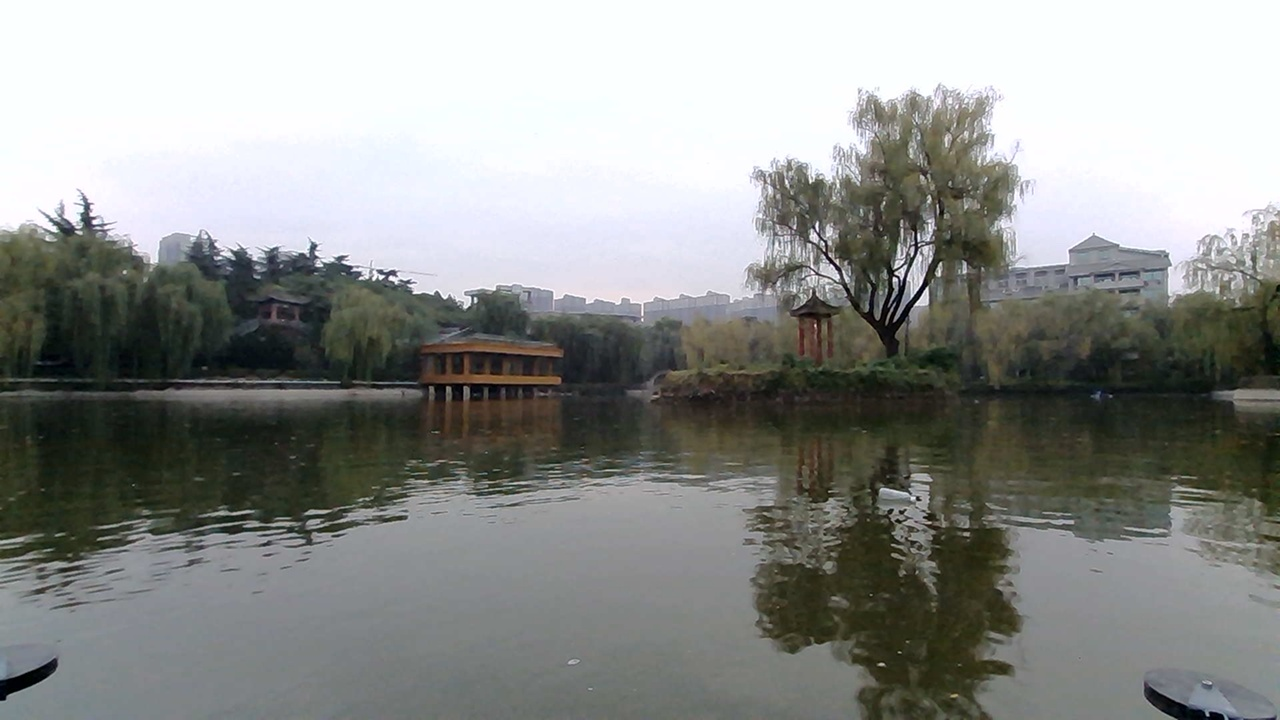bottle: (879, 479, 943, 512)
